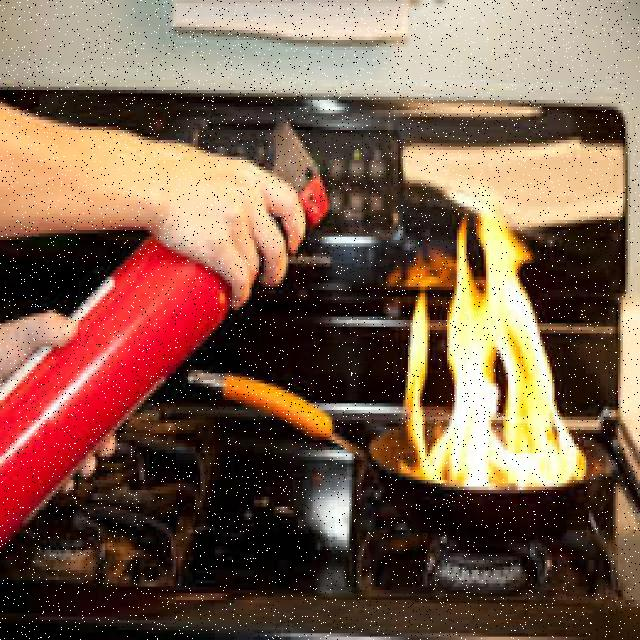fire: (409, 213, 589, 494)
